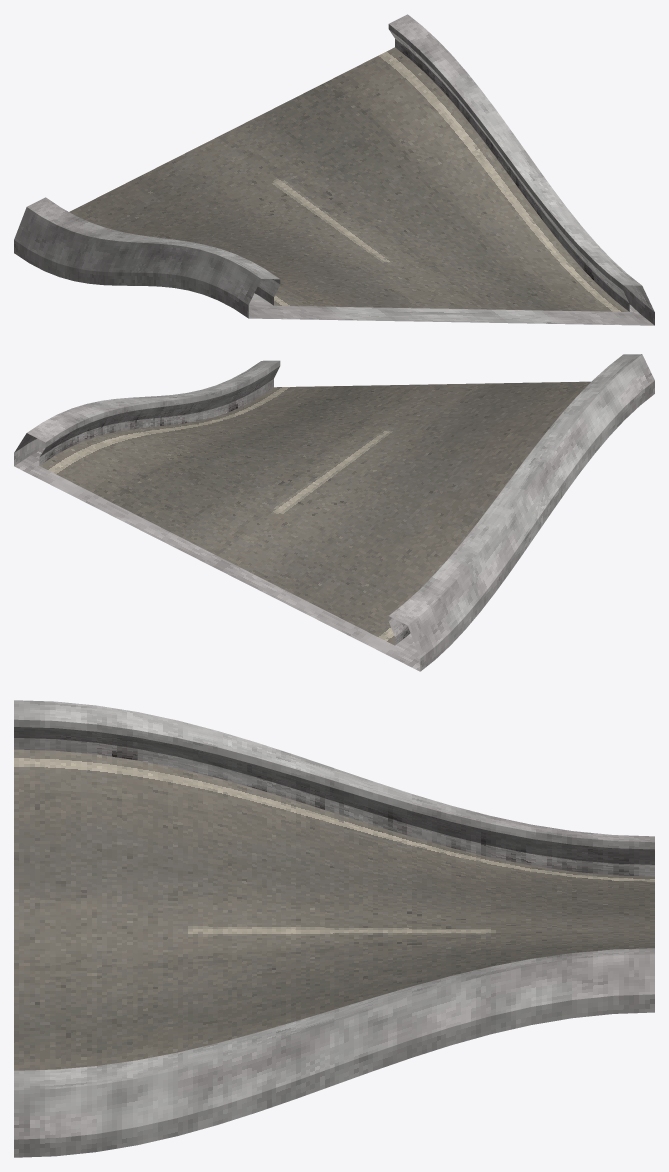
File: straight1.glb
3 renders of one model, top to bottom at view 1: azimuth 30°, elevation 25°; view 2: azimuth 150°, elevation 25°; view 3: azimuth 270°, elevation 25°, orthographic. The views are drawn at different scales.
Visible parts, largest first — view 1: road-Straight-HalfBankedRight-HalfBankedLeft-Even-Center-Siz; view 2: road-Straight-HalfBankedRight-HalfBankedLeft-Even-Center-Siz; view 3: road-Straight-HalfBankedRight-HalfBankedLeft-Even-Center-Siz.
Boxes of the visible parts, bbox=[...] form: road-Straight-HalfBankedRight-HalfBankedLeft-Even-Center-Siz: bbox=[14, 14, 654, 325]; road-Straight-HalfBankedRight-HalfBankedLeft-Even-Center-Siz: bbox=[14, 354, 654, 671]; road-Straight-HalfBankedRight-HalfBankedLeft-Even-Center-Siz: bbox=[14, 700, 654, 1157].
Bounding box in the file's own units: 1 × 0.3359 × 1.
Materials: 2 (2 with a texture image).
